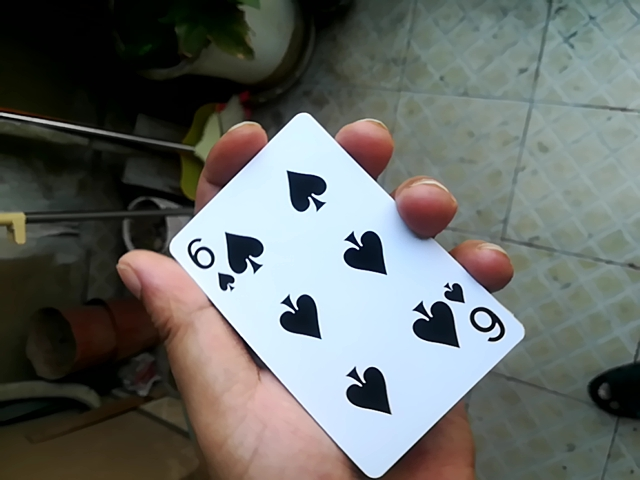ht 6: (146, 99, 501, 477)
